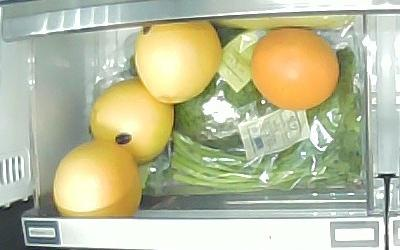grapefruit: (135, 19, 221, 103), (251, 28, 339, 110), (90, 78, 174, 162), (54, 141, 142, 217)
